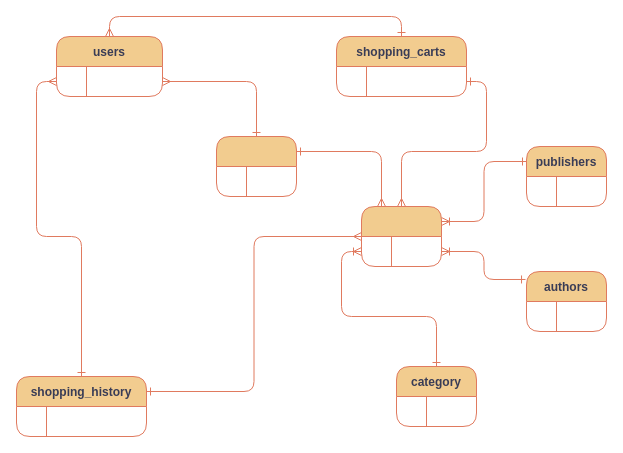
This 623x453 diagram has some shape labels left out. Here are the shapes that lost their labels. From the top down, the box of each, then its label:
(216, 136, 296, 196): collection
(360, 206, 442, 266): books
